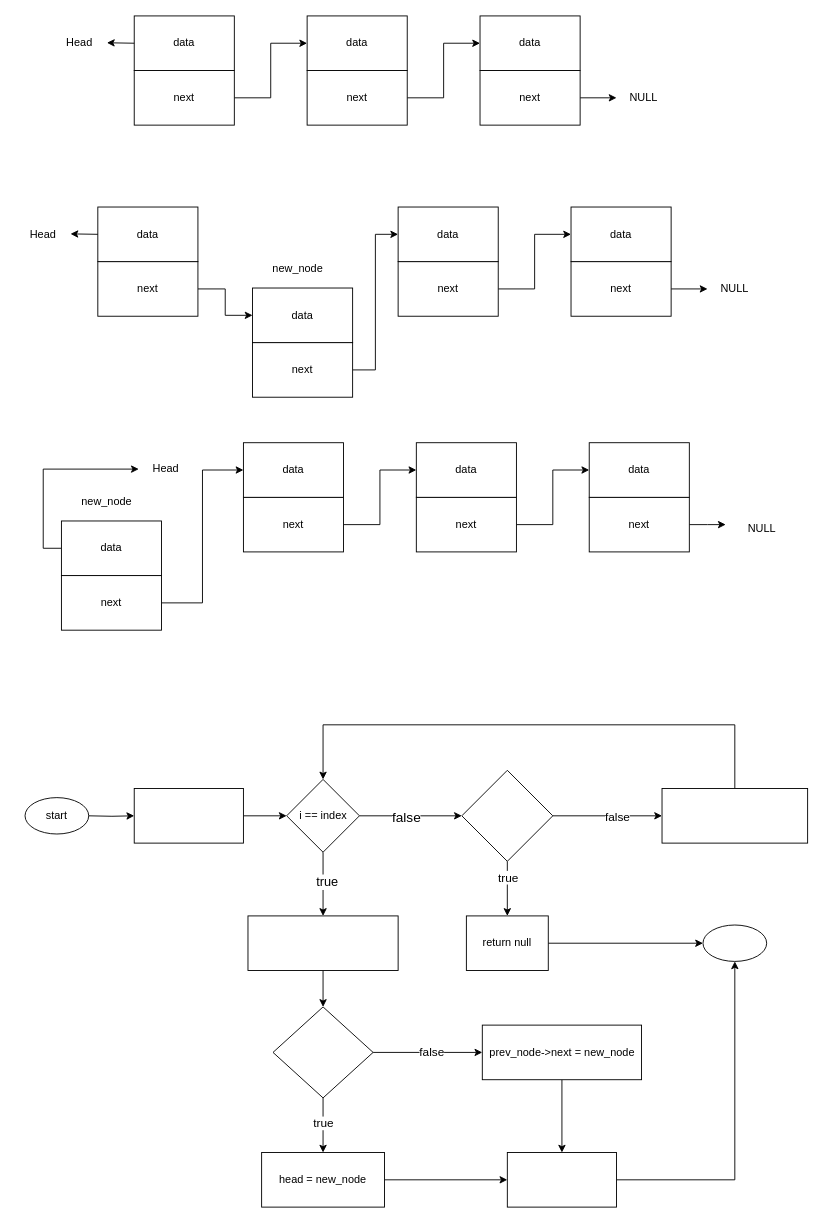
Image size: 824x1223. Some labels were removed from this diagram. The centre of each missing label's shape, as x and y in pixels:
"create new_node new_node->next = cur_node" belongs at point 322,943.
"cur_node = head" belongs at point 188,815.
"cur_node == null" belongs at point 507,815.
"end" belongs at point 734,942.
"index == 0" belongs at point 322,1052.
"prev_node = cur_node cur_node = cur_node->next i++" belongs at point 734,815.
"return new_node" belongs at point 561,1179.
